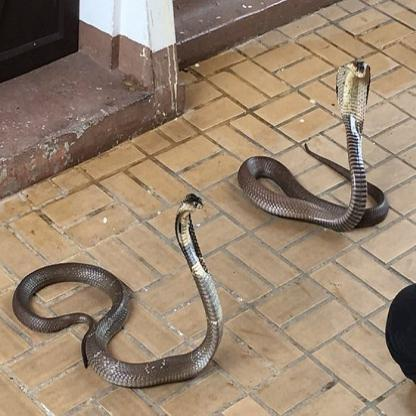Snake: (14, 193, 222, 388), (237, 59, 392, 232)
